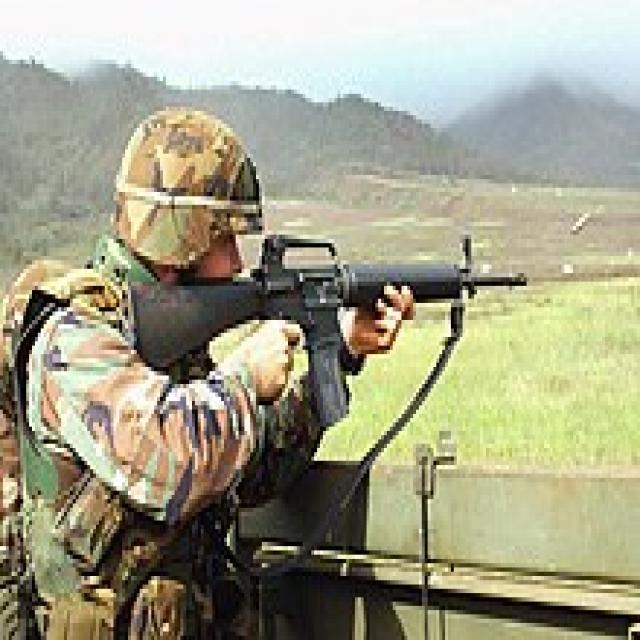m16: (123, 200, 541, 456)
